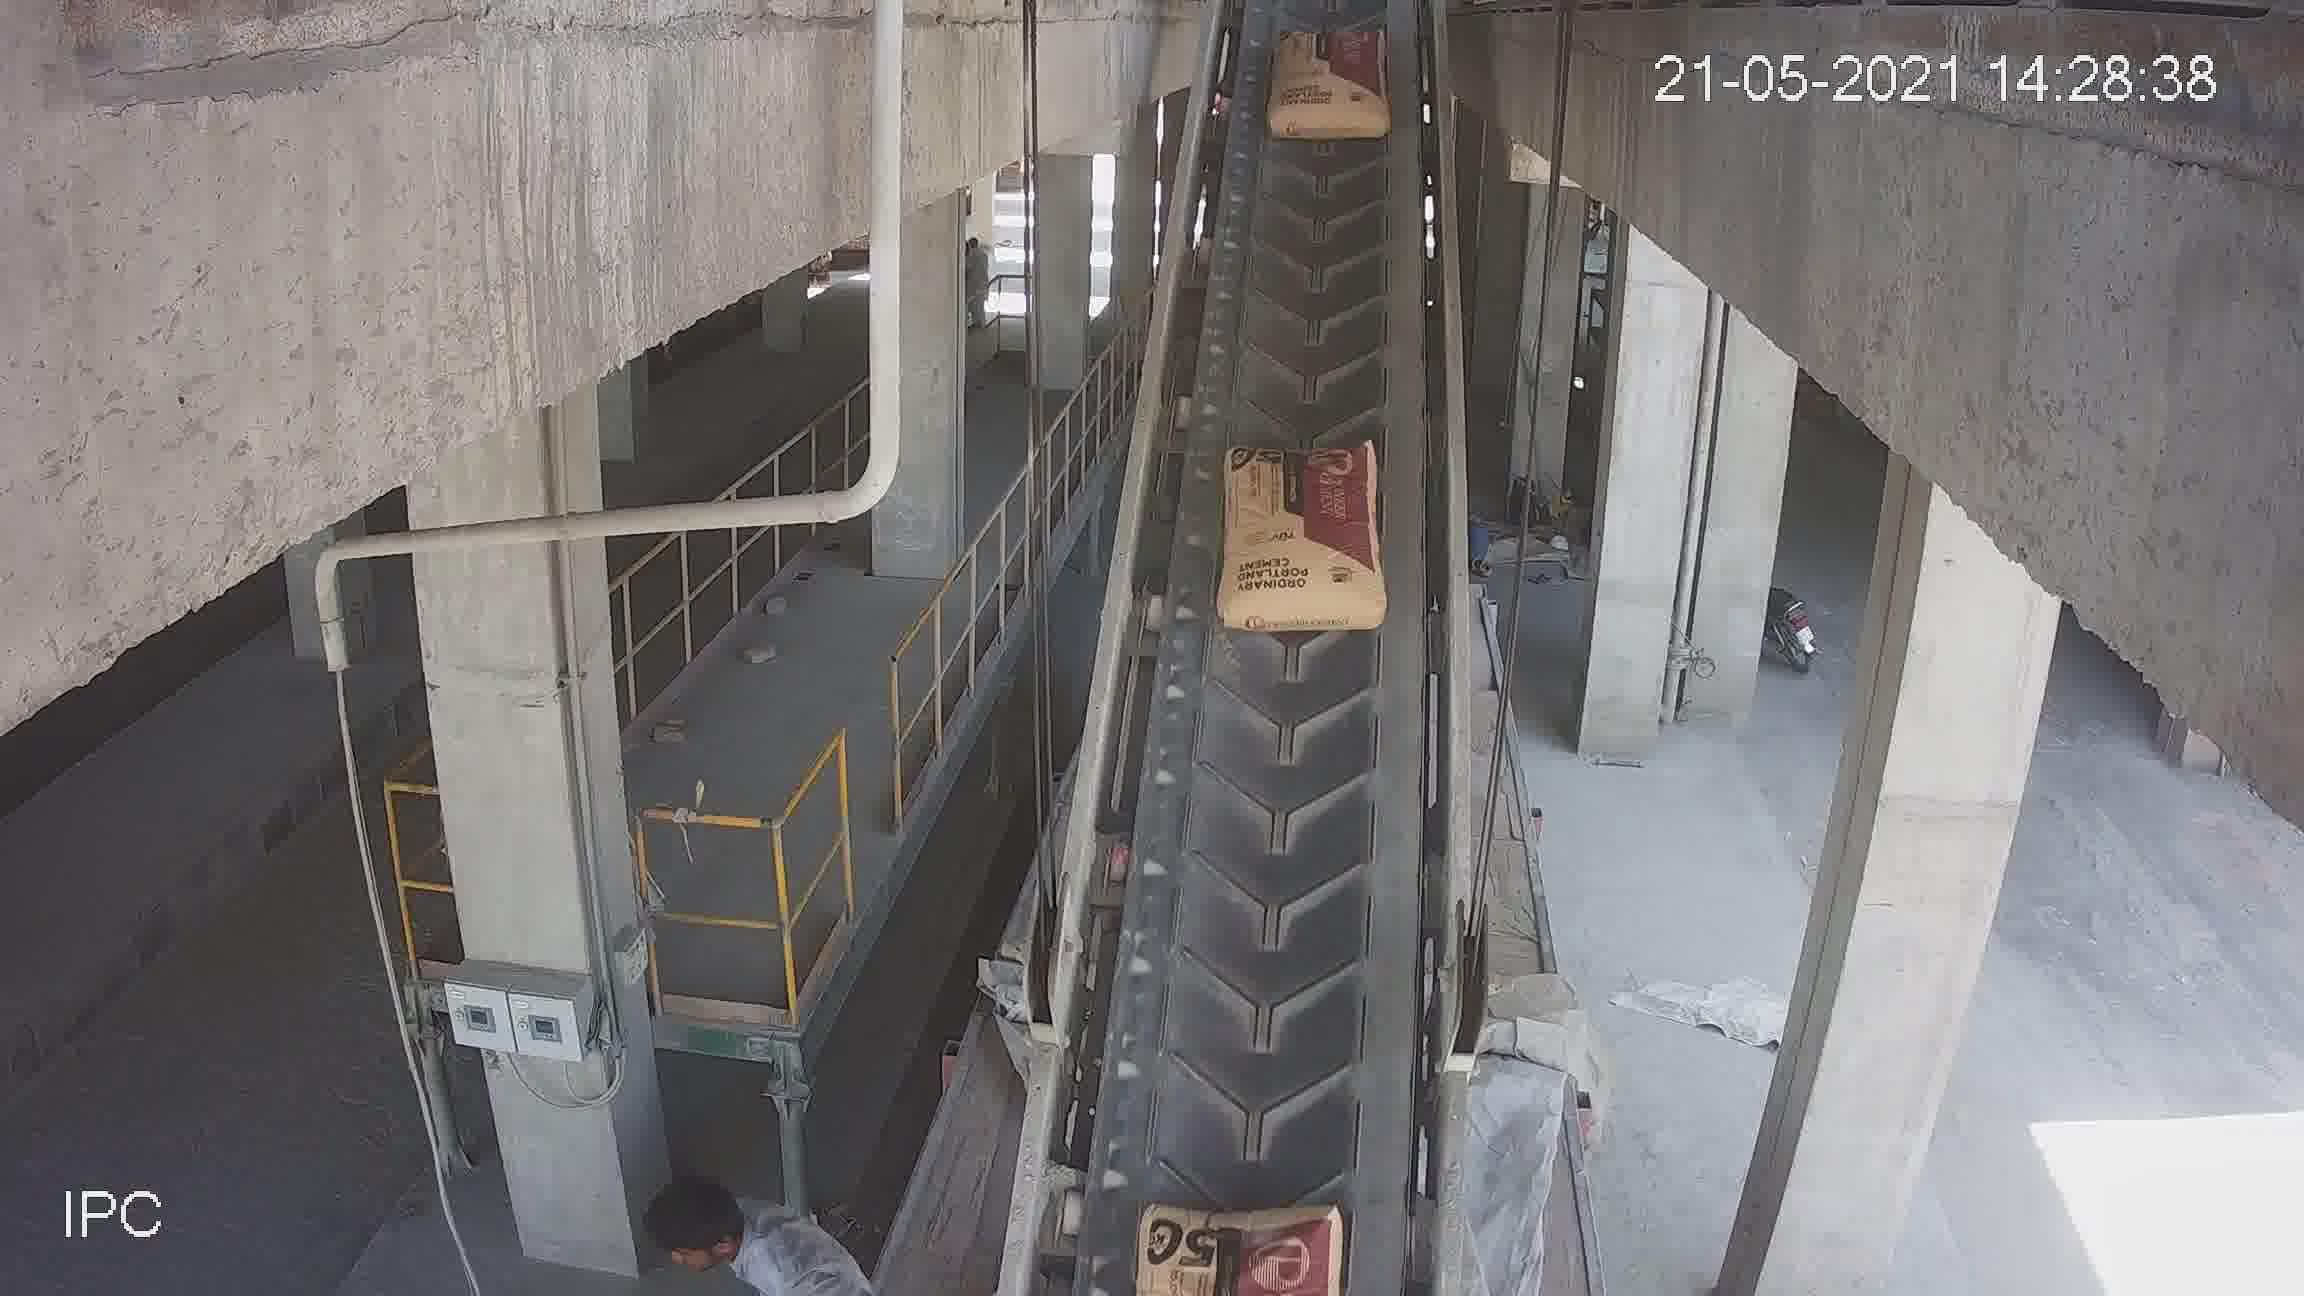bag: (1230, 451, 1383, 638), (1136, 1211, 1339, 1287), (1275, 32, 1389, 135)
belt: (1038, 27, 1473, 1260)
